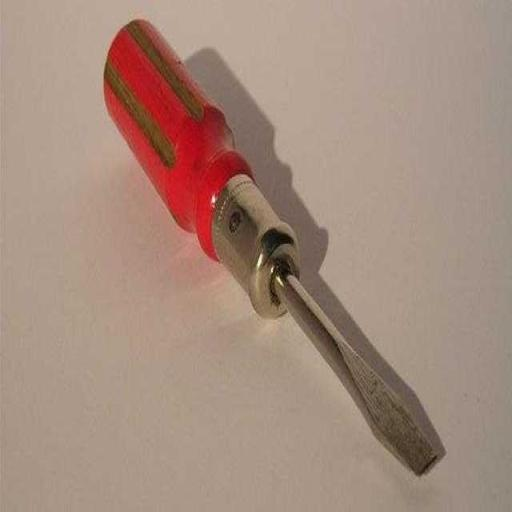screwdriver: (103, 17, 436, 477)
